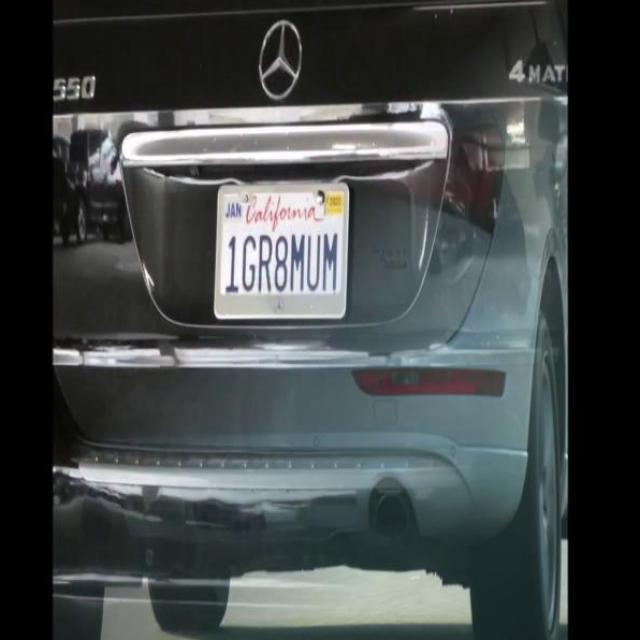license-plate: (207, 182, 375, 326)
